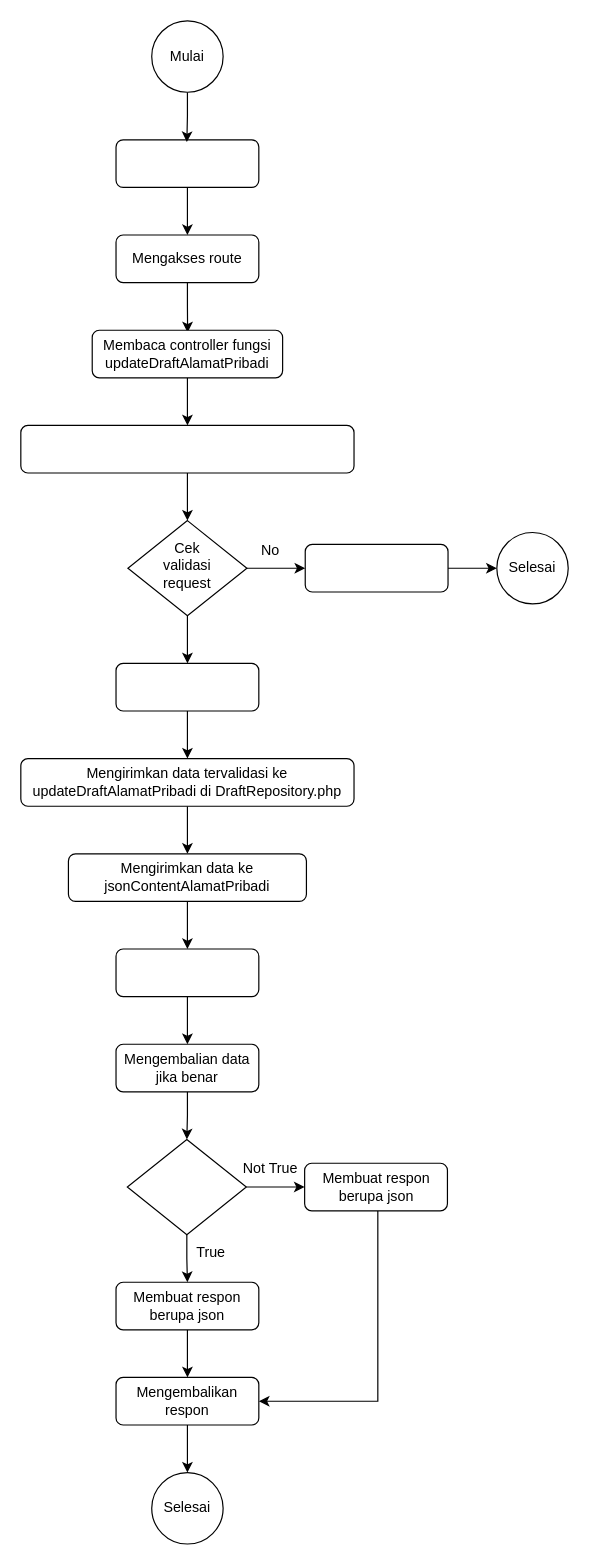
Some shapes in this 589 by 1565 pixel diagram are drawn without their labels. Here are the shapes that lost their labels. From the top down, the centre of each, then its label:
the point at 187,163: Menerima request
the point at 187,448: Mengirimkan request ke cekUpdateDraftAlamatPribadi di ValidateInput.php
the point at 376,567: Mengembalikan pesan error
the point at 187,686: Mengembalikan data tervalidasi
the point at 187,972: Menyimpan data ke database
the point at 186,1186: Cek hasil pengembalian
